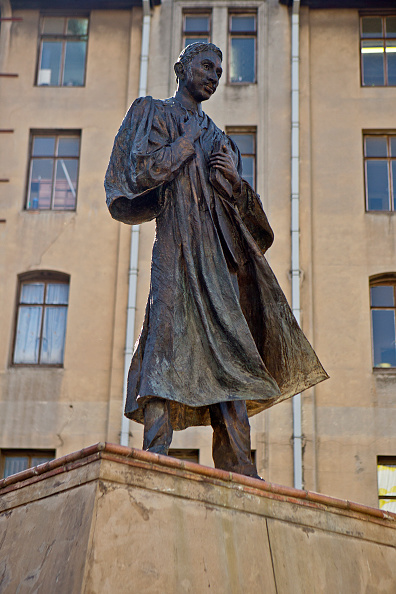em pe: (110, 16, 293, 499)
